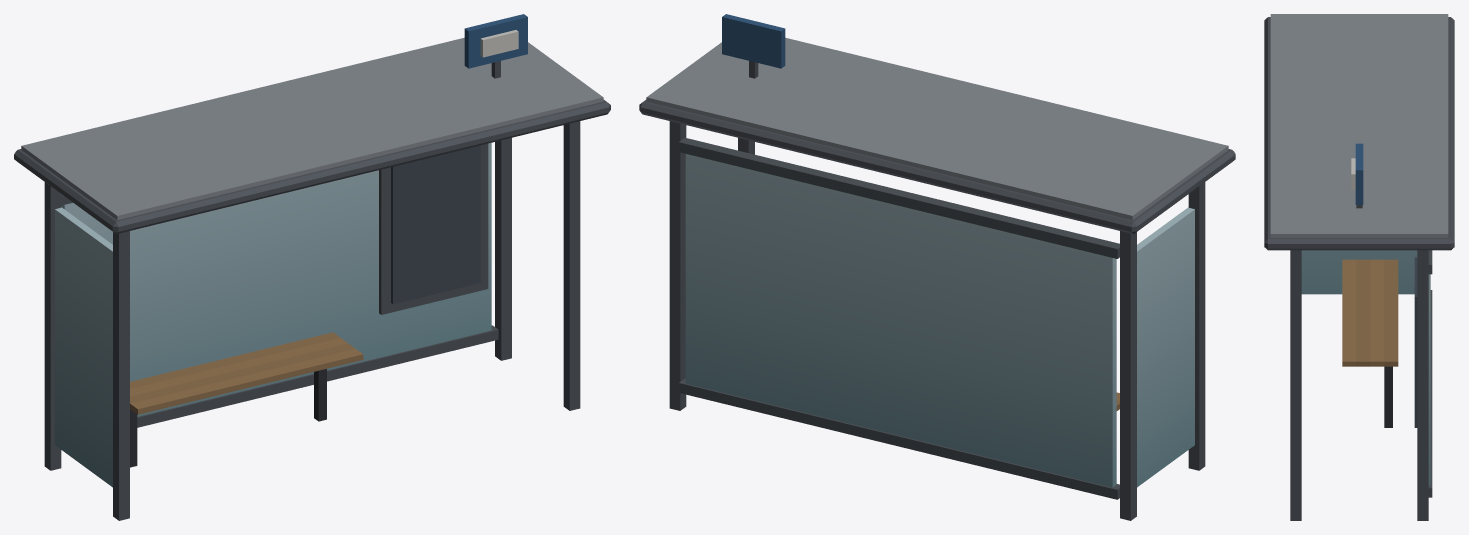
Rendered from shelter.glb.
The picture shows the model from 3 angles, left to right: view 1: azimuth 30°, elevation 25°; view 2: azimuth 150°, elevation 25°; view 3: azimuth 270°, elevation 25°; orthographic projection. The views are drawn at different scales.
Visible parts, largest first — view 1: bus_shelter_01; view 2: bus_shelter_01; view 3: bus_shelter_01.
Boxes of the visible parts, x1,y1,x2,y2 form: bus_shelter_01: (14,14,610,520); bus_shelter_01: (639,14,1235,520); bus_shelter_01: (1264,14,1454,520).
Bounding box in the file's own units: 4.2 × 2.98 × 1.5.
